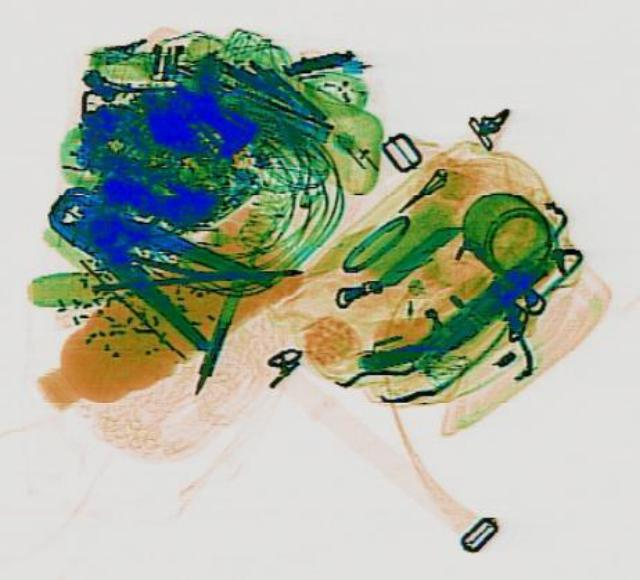Pliers: (18, 158, 276, 352)
